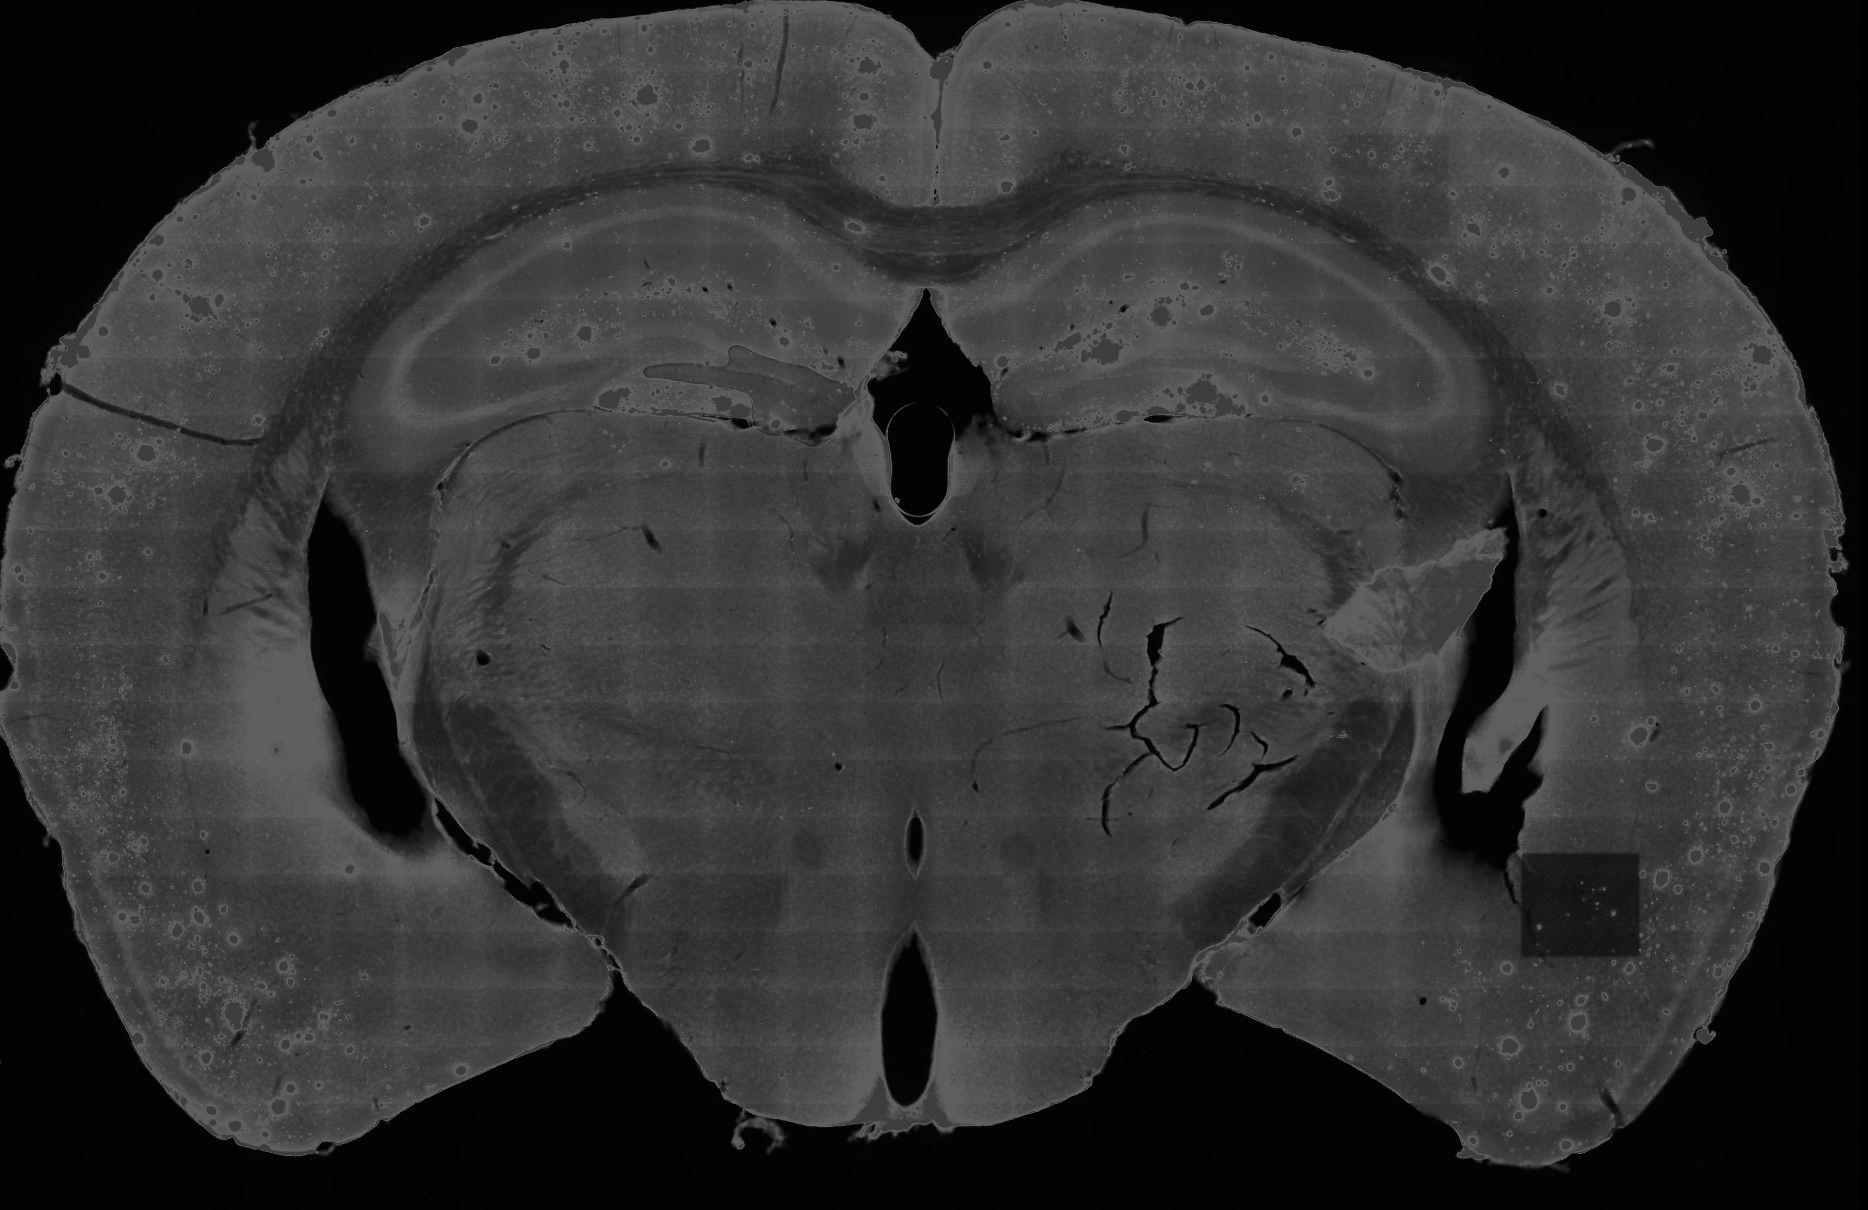Cerebral nuclei: (206, 400, 344, 780), (1504, 416, 1642, 734)
Hippocampal formation: (343, 185, 924, 474), (931, 191, 1496, 475)
Hypothalamus: (475, 685, 914, 1135), (909, 710, 1344, 1134)
Retrosplenial area: (934, 0, 1065, 210), (828, 1, 941, 210)
Somatosensory area: (128, 35, 551, 348), (1287, 49, 1705, 339)
Thalamus: (432, 391, 918, 798), (916, 418, 1411, 798)
